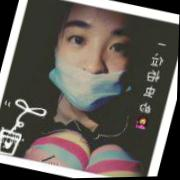WRONG: (45, 2, 145, 115)
